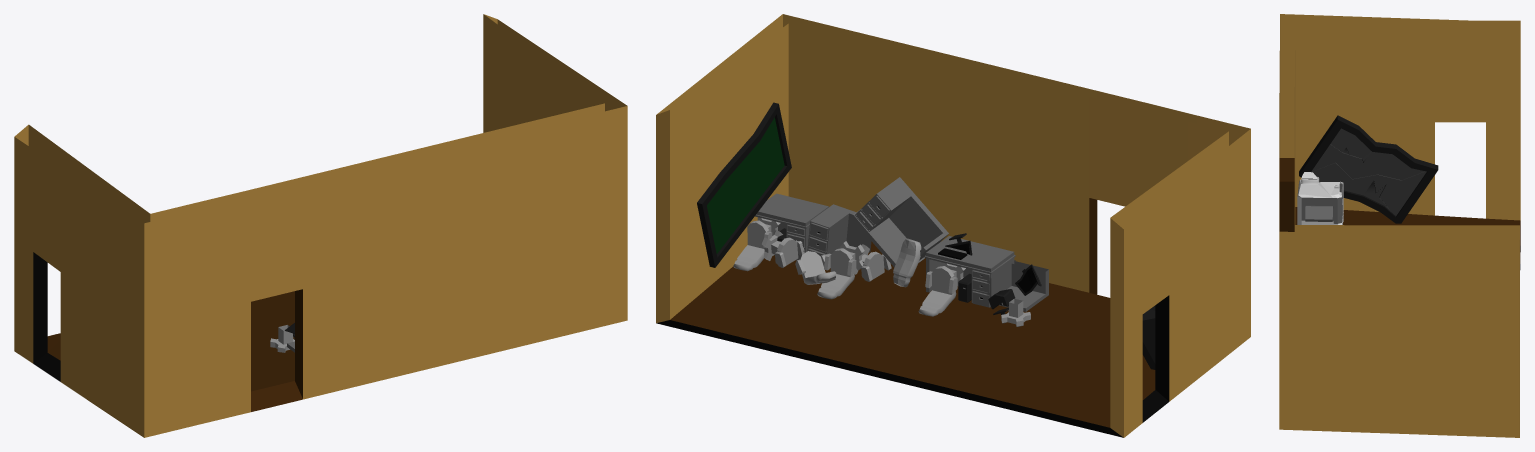
Rendered from school2.FBX.
3 renders of one model, left to right at view 1: azimuth 30°, elevation 25°; view 2: azimuth 150°, elevation 25°; view 3: azimuth 270°, elevation 25°, orthographic. The views are drawn at different scales.
Visible parts, largest first — view 1: Box002; view 2: Box002; view 3: Box002.
Part boxes in pixels (bbox=[...]): Box002: bbox=[14, 14, 627, 437]; Box002: bbox=[656, 14, 1250, 437]; Box002: bbox=[1279, 14, 1520, 437].
Bounding box in the file's own units: 1044 × 461 × 489.
